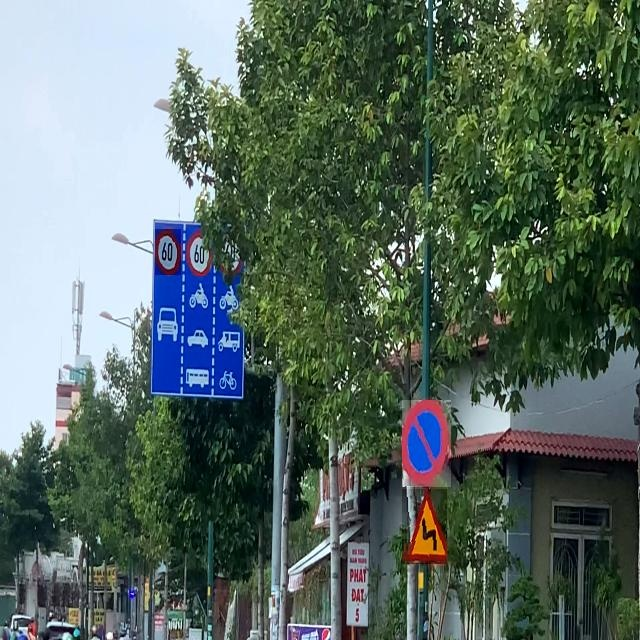bien_chi_dan: (402, 400, 451, 487), (402, 489, 447, 564), (186, 230, 212, 276), (156, 229, 182, 275)
